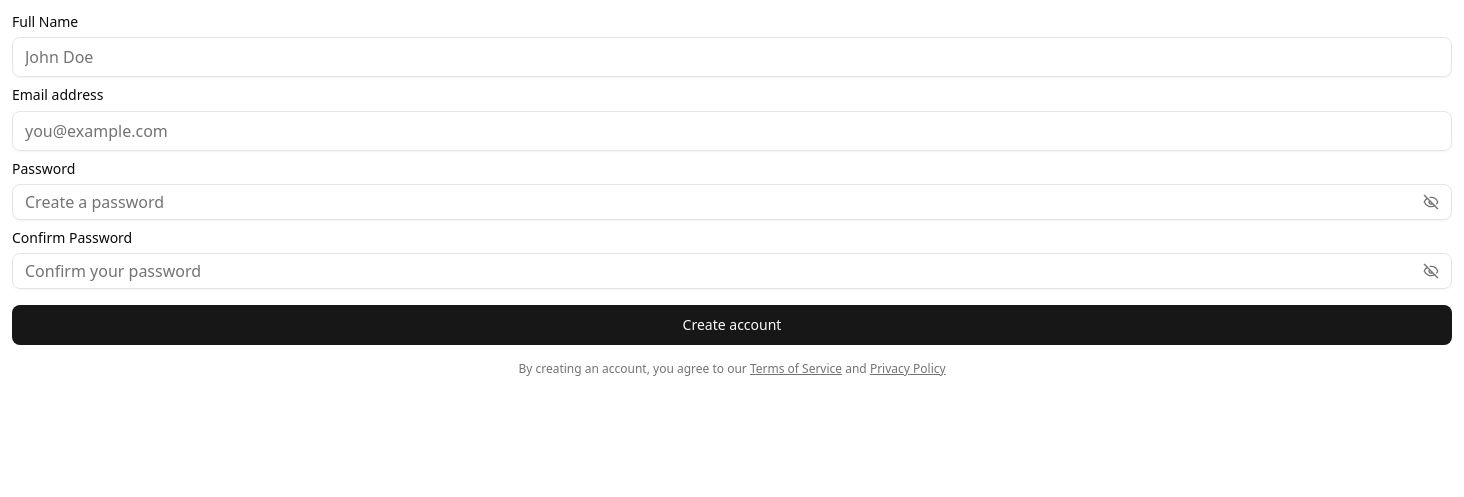
Test: RegisterForm › shows validation error for invalid email
The image size is (1464, 497).
Type "invalid-email" into the field labelled "Email address". click: (732, 130)
box: [12,110,1452,150]
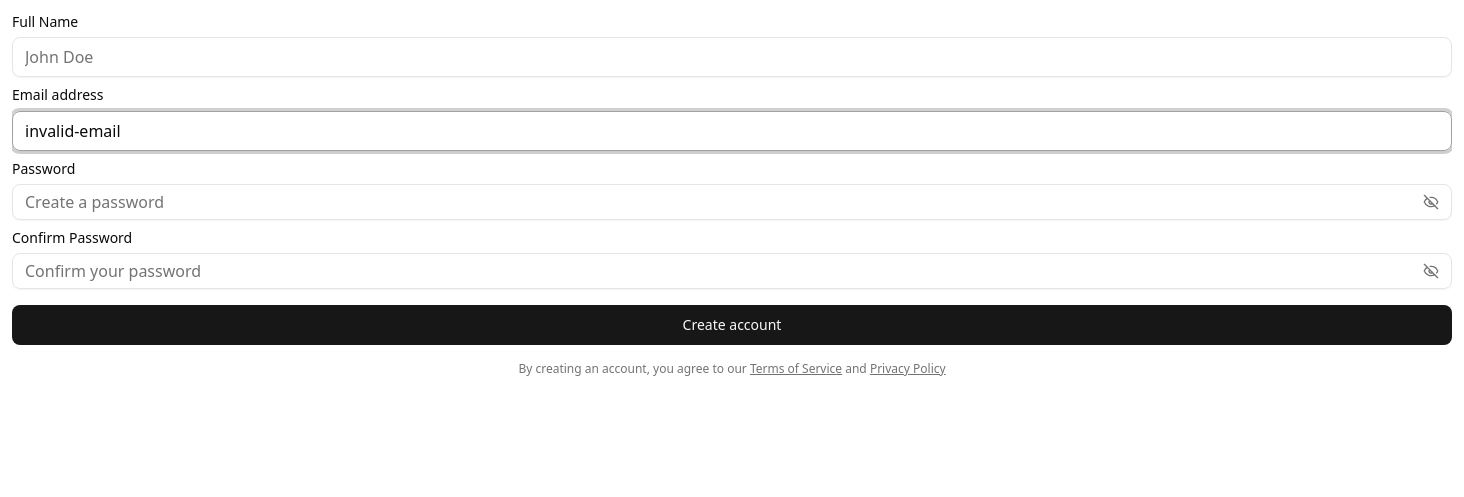
Click the button "Create account". click: (732, 325)
box: [12,305,1452,345]
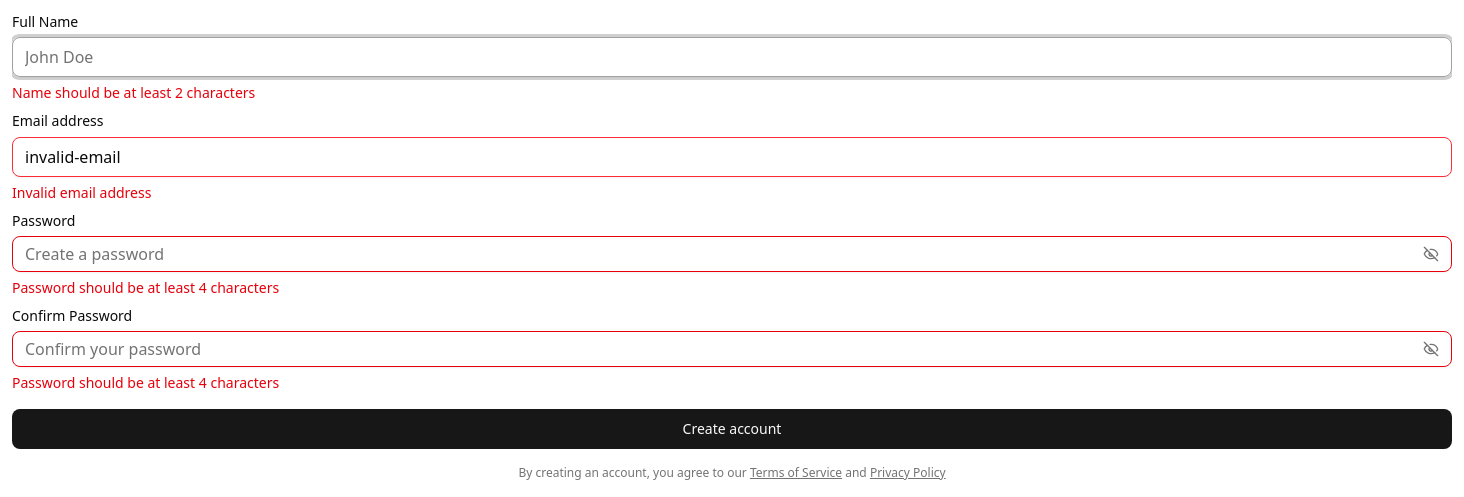
Expected: the text "Invalid email address" is shown, [12,182,151,202]
